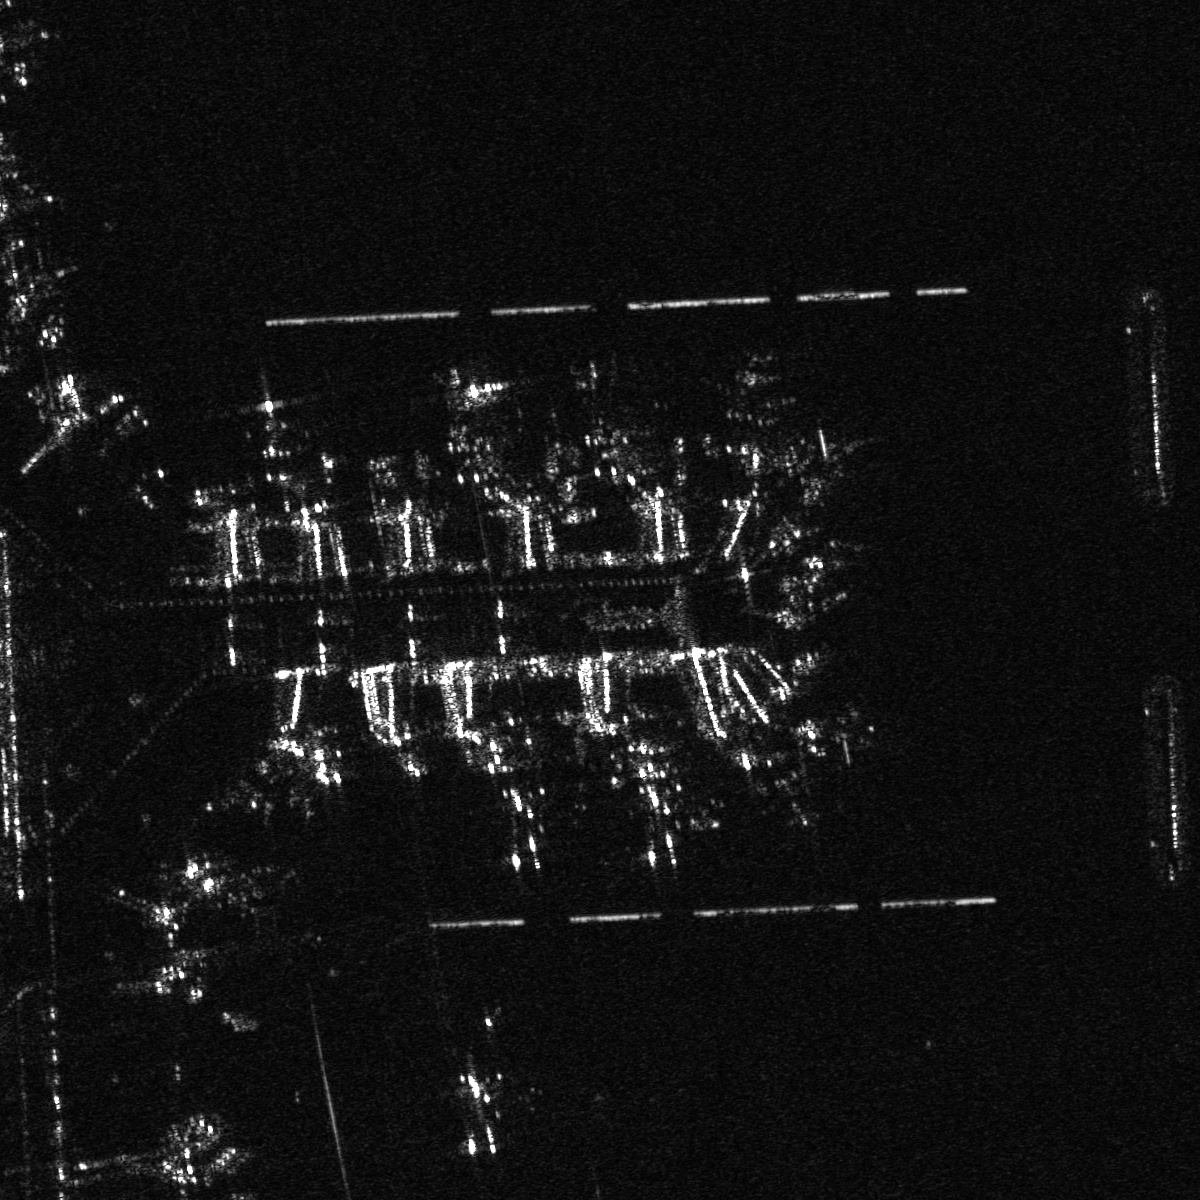A220: (236, 386, 300, 438)
A320/321: (614, 755, 711, 866), (716, 364, 795, 432), (438, 364, 515, 423)
Boeing737: (751, 748, 821, 834)
Boeing787: (478, 775, 559, 873)
other: (441, 1071, 514, 1158)
